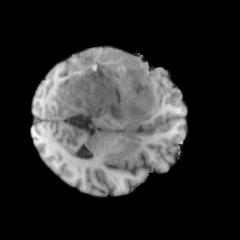glioma: (43, 48, 160, 123)
